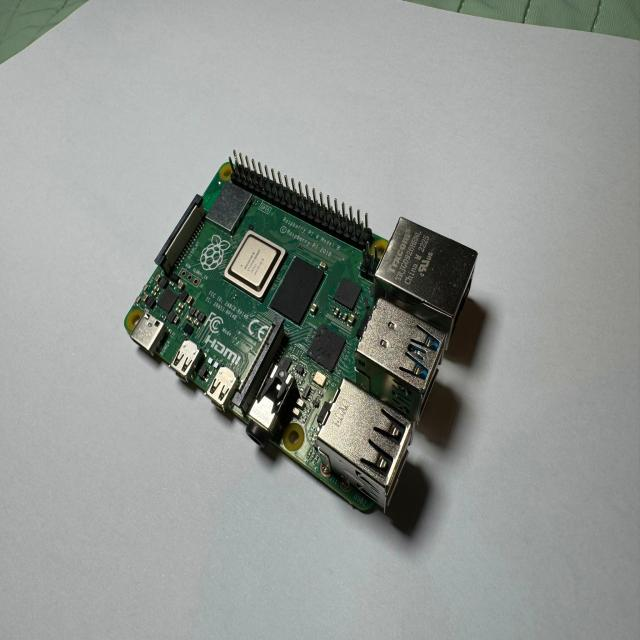CPU: (223, 232, 286, 300)
Ethernet: (376, 218, 479, 323)
GPIO: (227, 152, 376, 250)
RAM: (271, 257, 327, 327)
Raspberry: (127, 158, 477, 533)
micro-hdmi: (170, 340, 200, 382), (205, 367, 234, 405)
